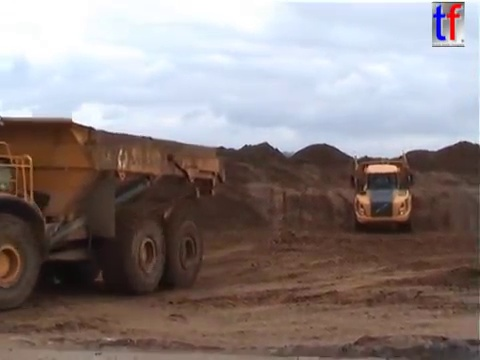truck: (1, 113, 229, 314), (348, 148, 416, 233)
